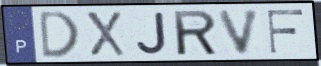D: (37, 9, 81, 61)
F: (265, 8, 306, 56)
J: (134, 10, 169, 56)
R: (171, 8, 220, 58)
V: (215, 8, 263, 57)
X: (83, 11, 128, 58)
